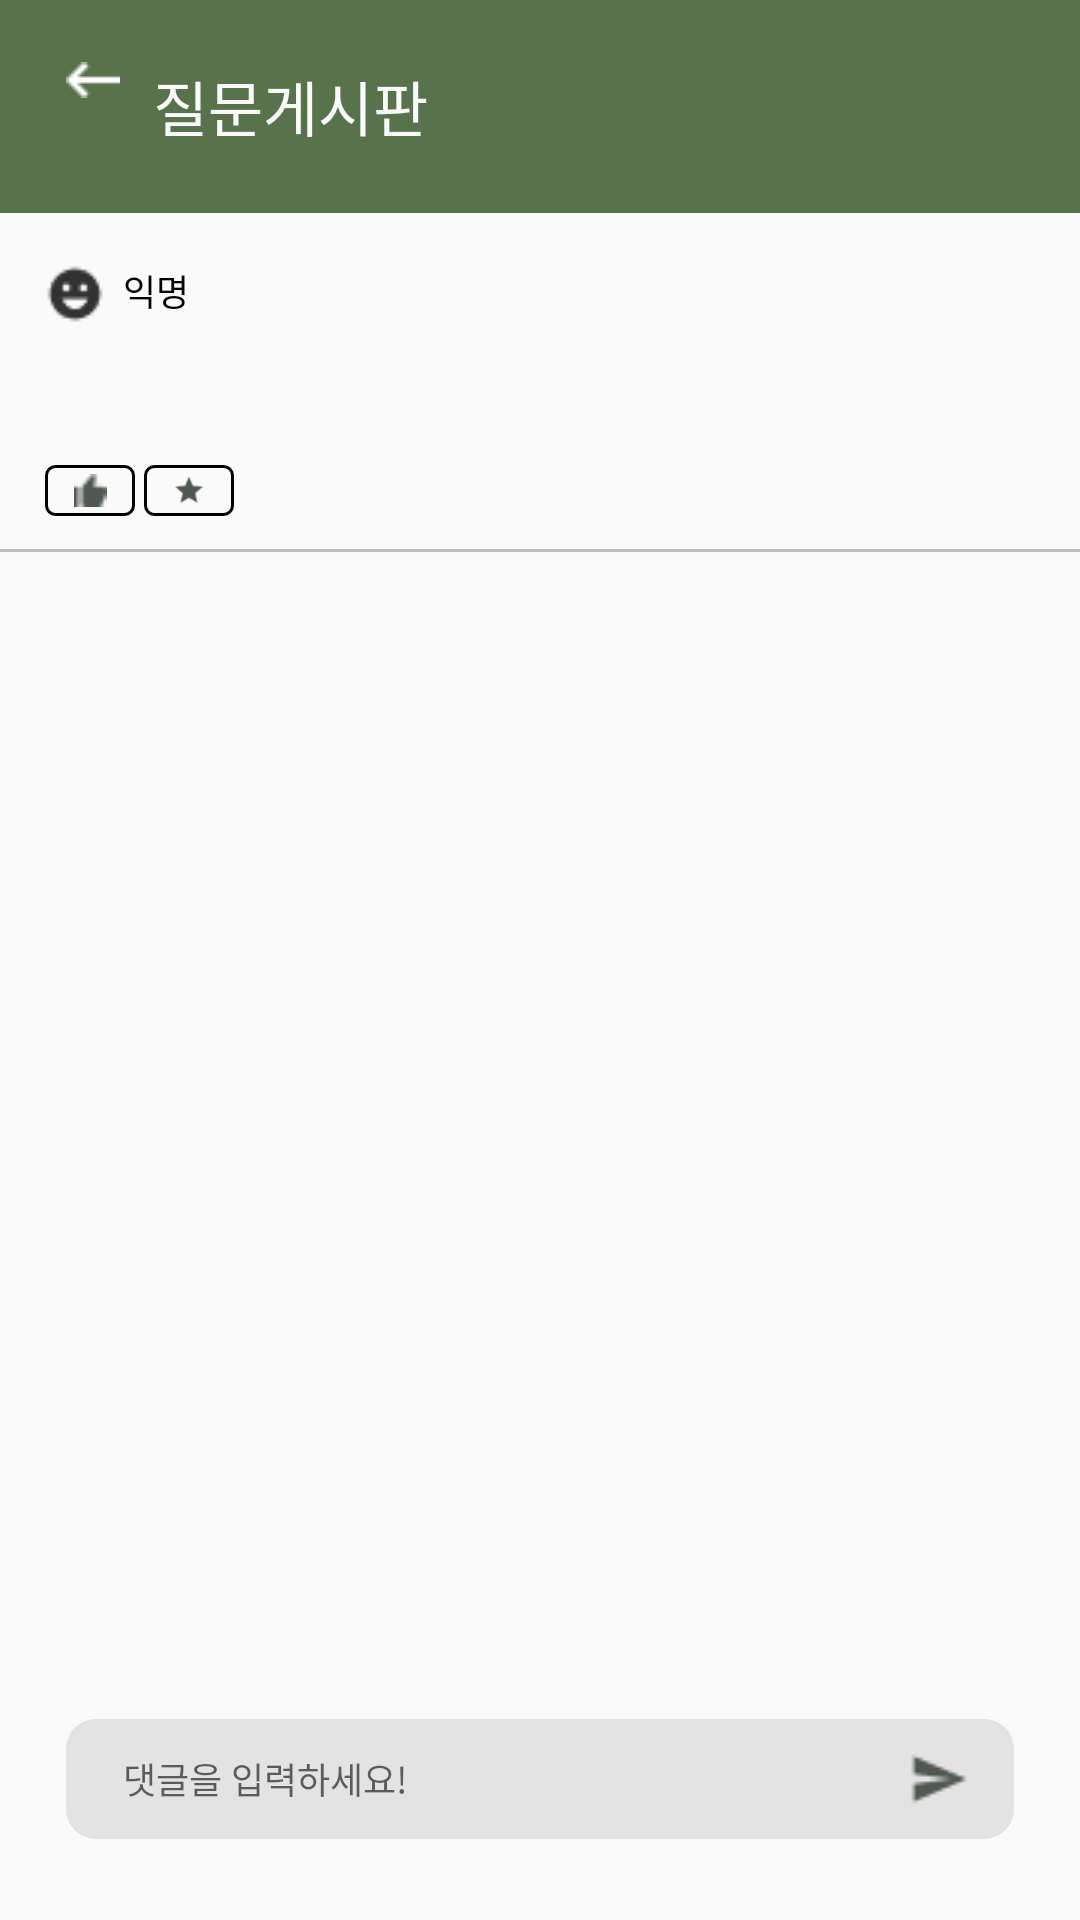

Locate icon controls on the screen. Image size 1080px x 1920px, boxes as (x1, y1, x2, y2).
back: (66, 62, 120, 98)
profile emoji: (47, 266, 103, 322)
